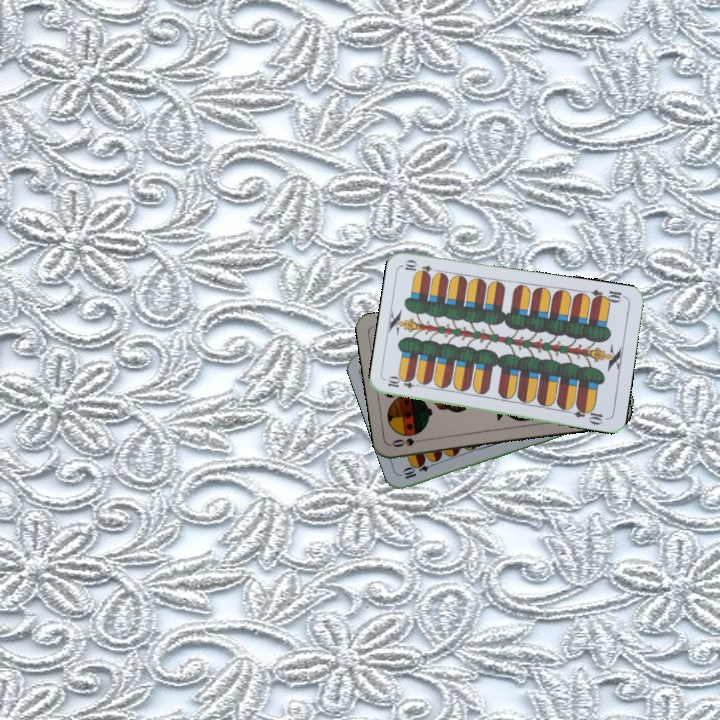E10: (399, 457, 439, 482), (588, 286, 628, 306), (384, 374, 424, 391)
SO: (388, 434, 428, 449)
